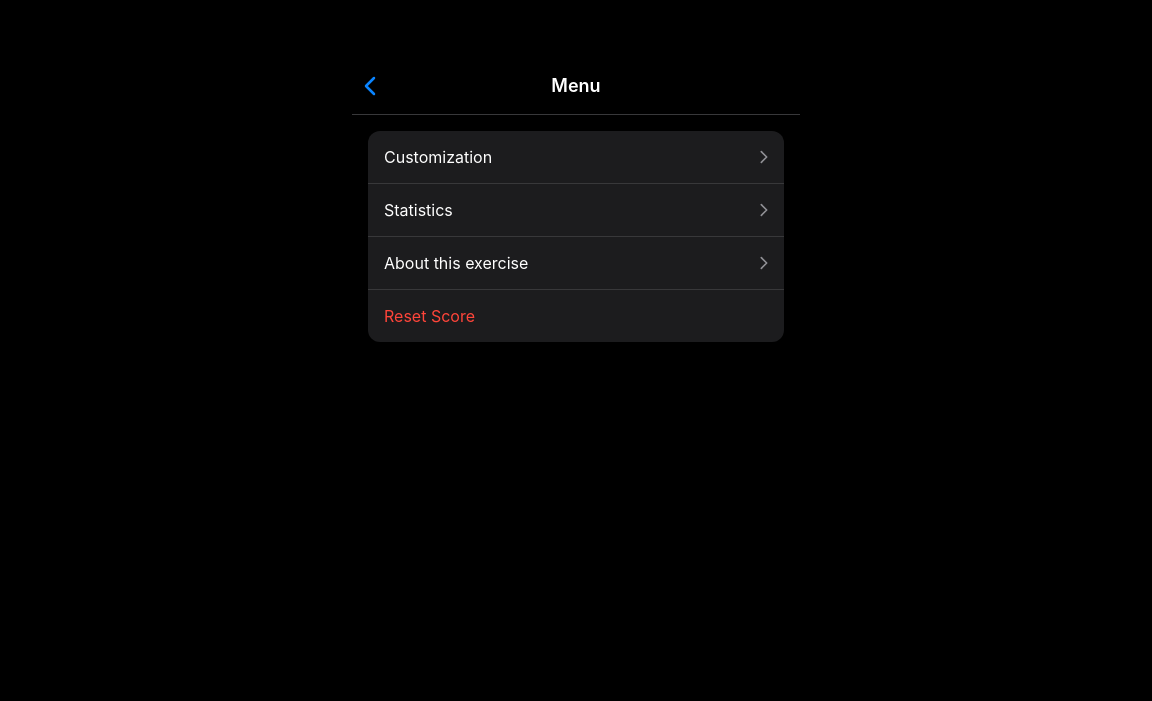
Test: intervals screen › disables compound intervals when only descending is enabled
The image size is (1152, 701).
Click the button "Customization": (438, 157) [368, 131, 784, 183]
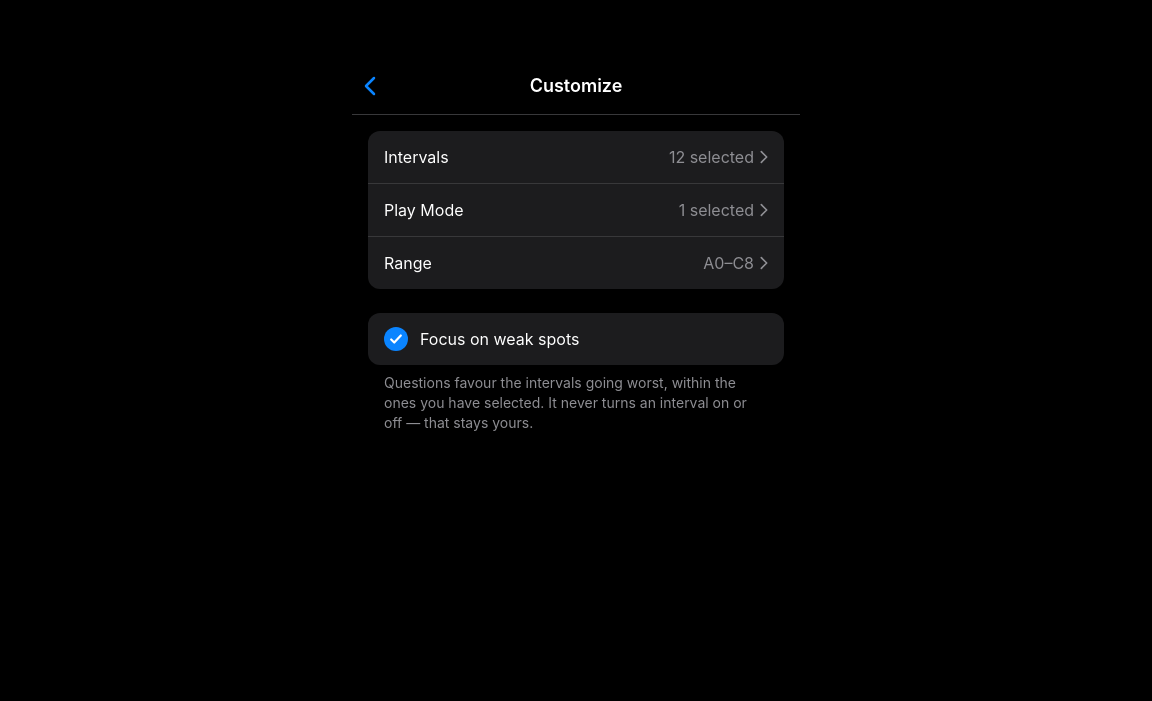
Click the button "Intervals 12 selected": (416, 157) [368, 131, 784, 183]
(page scrolled)
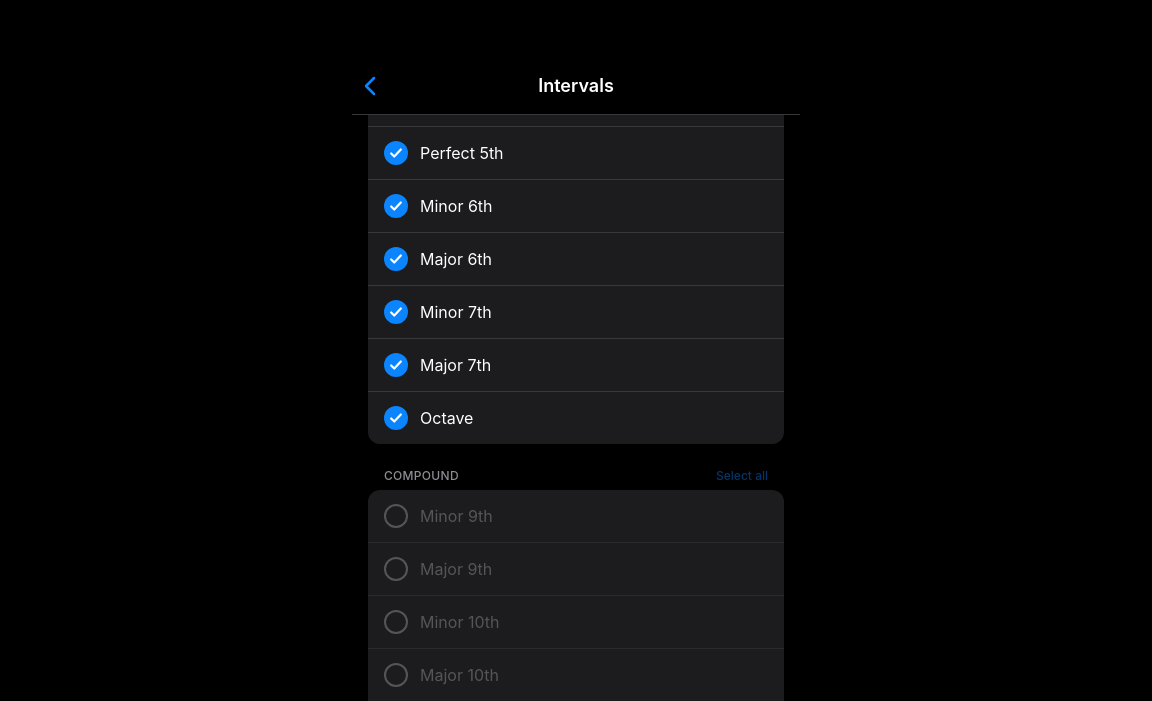
Check: the checkbox labelled "Minor 9th" is disabled, box [368, 490, 784, 542]
Check: the checkbox labelled "Octave" is enabled, box [368, 391, 784, 444]
